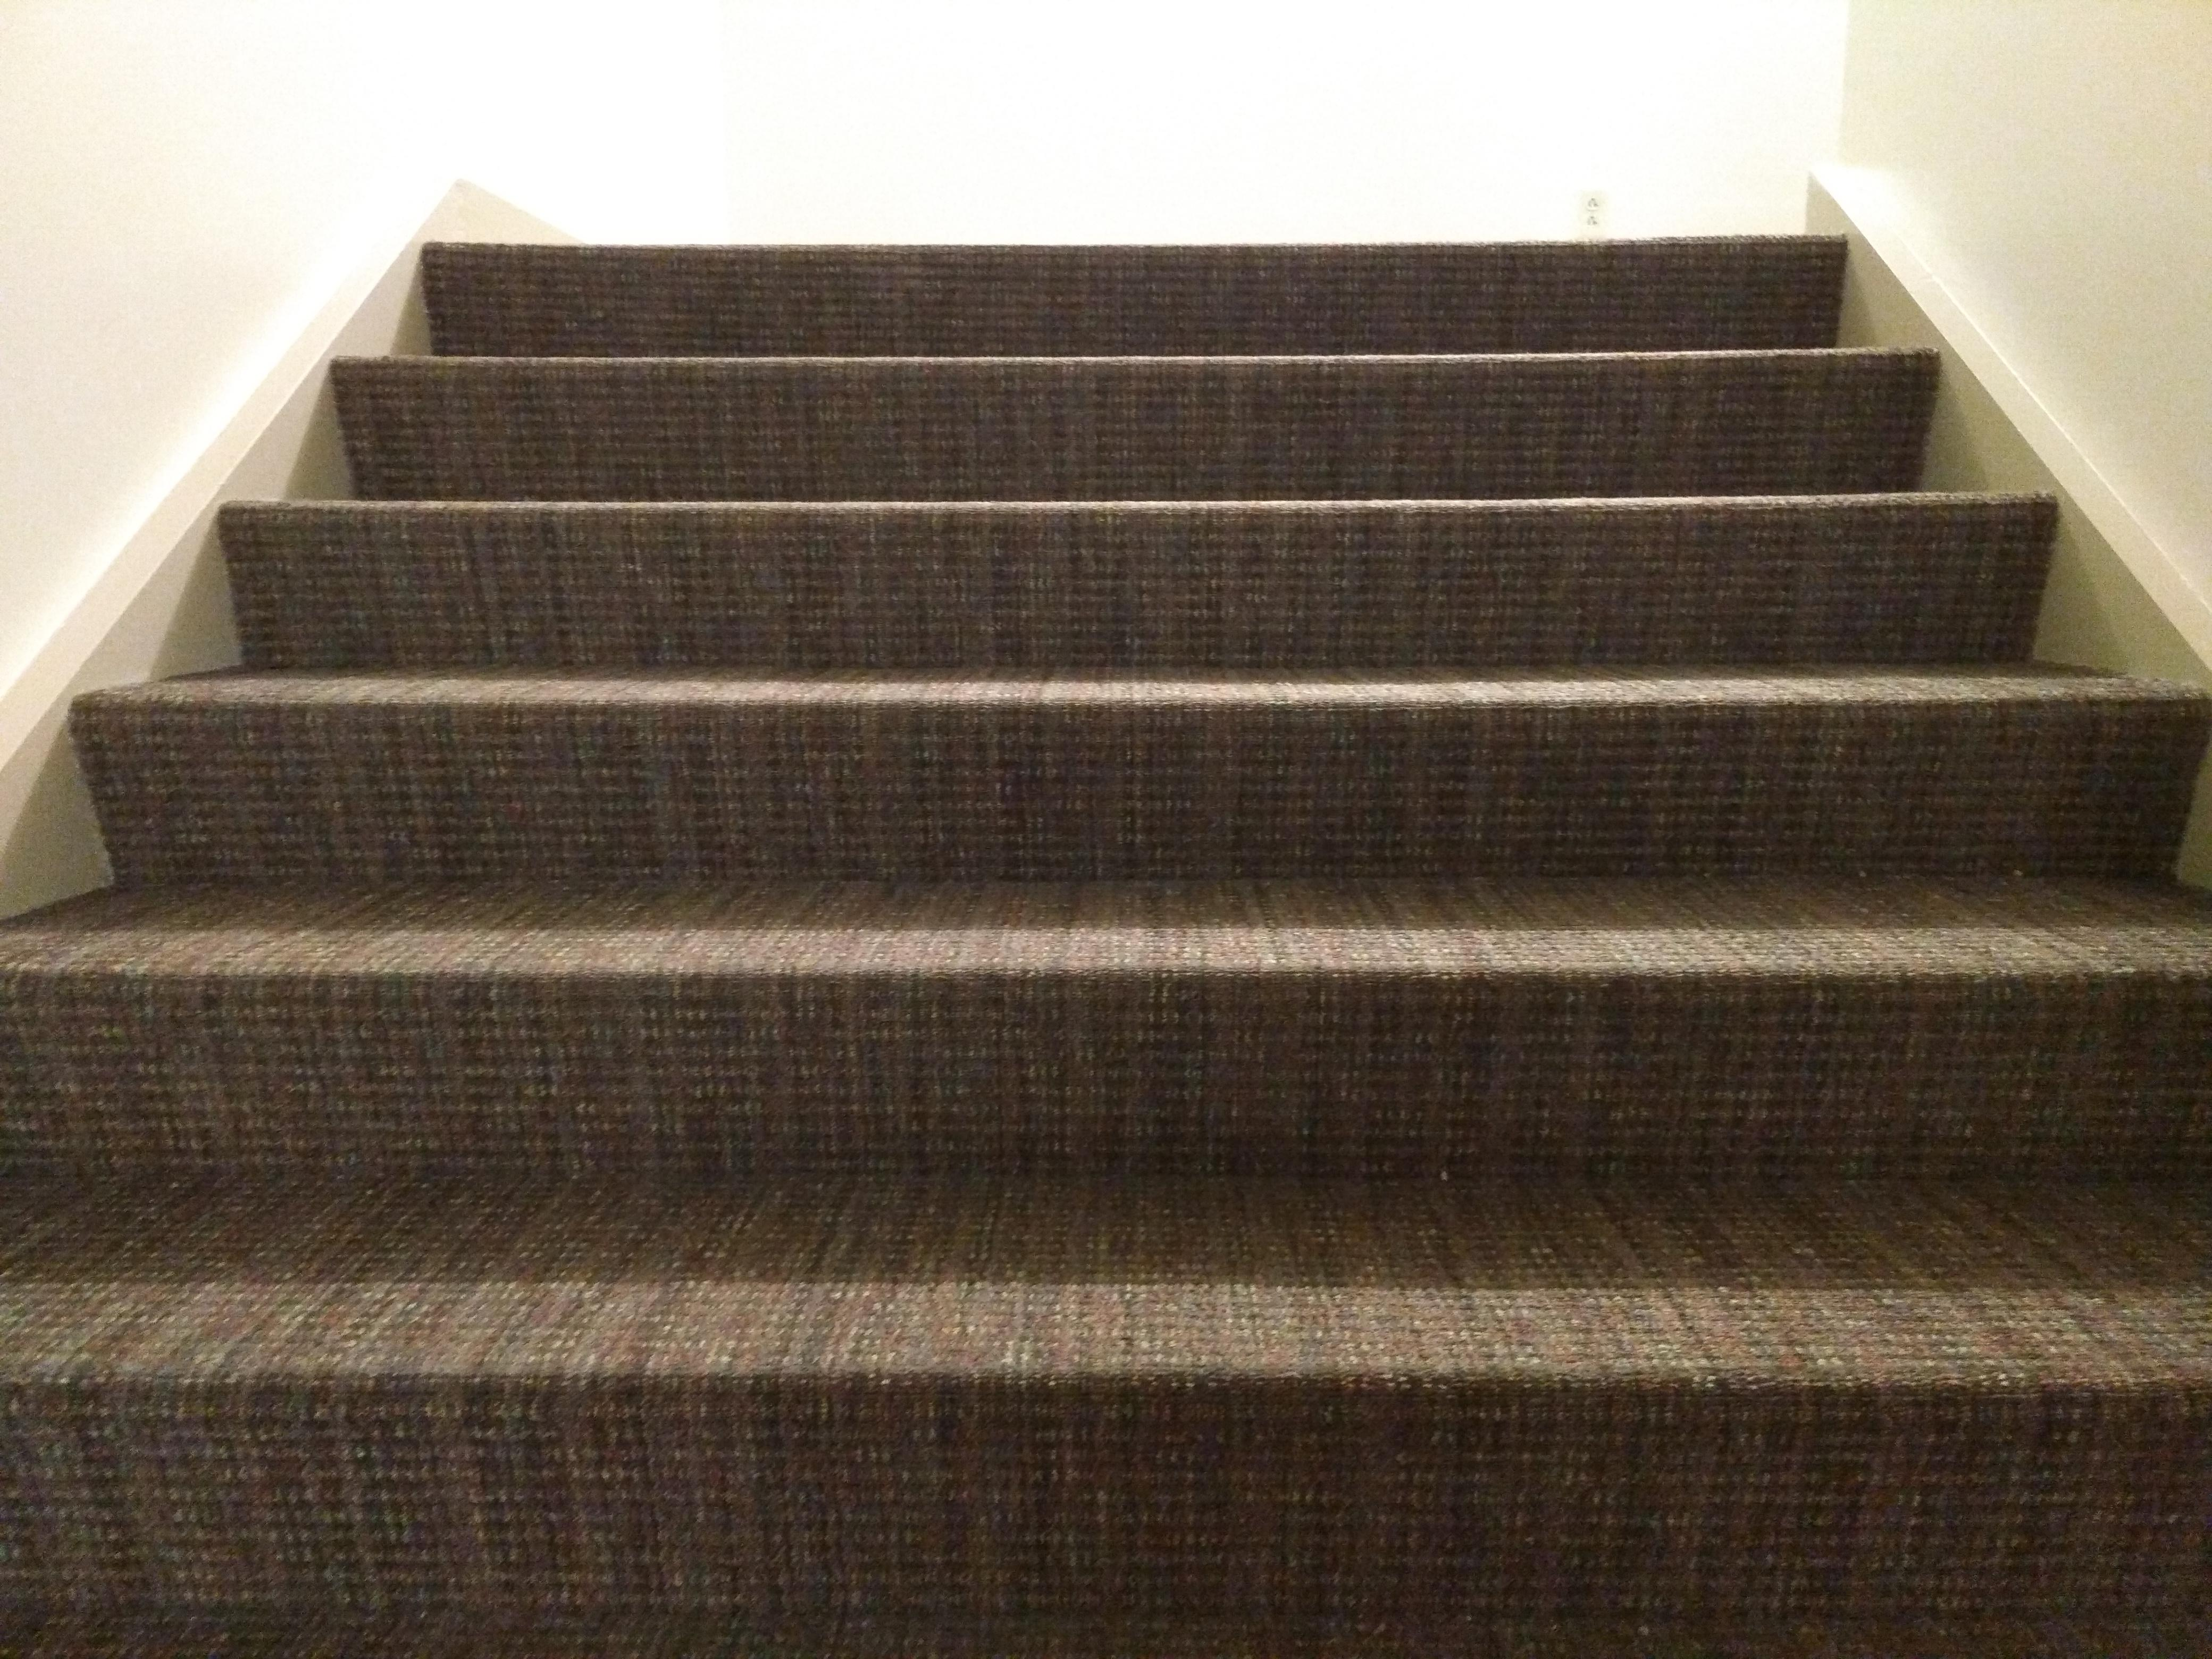stairs_up: (21, 223, 2209, 1516)
